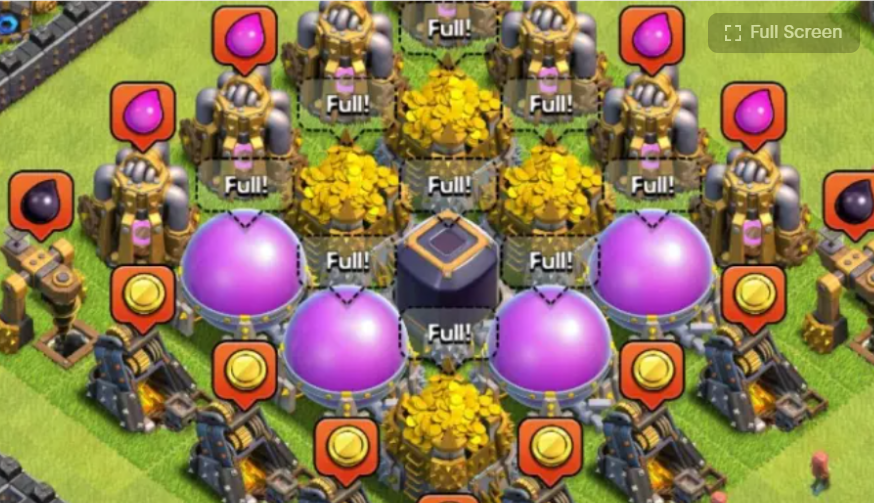elixir_colector: (695, 126, 818, 274), (181, 81, 317, 204), (600, 83, 713, 202), (127, 131, 198, 266), (288, 81, 409, 129), (500, 79, 599, 128)
gold_mine: (684, 272, 822, 441), (597, 379, 724, 500), (186, 393, 298, 501), (127, 304, 199, 442), (288, 464, 381, 503), (494, 465, 579, 503)
